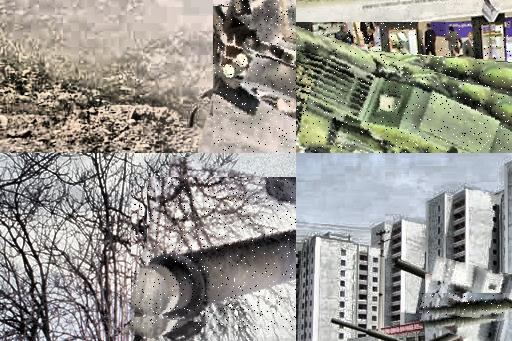tanks: (297, 32, 512, 154), (132, 235, 297, 326), (214, 1, 297, 126), (333, 320, 407, 341), (420, 301, 512, 317)
